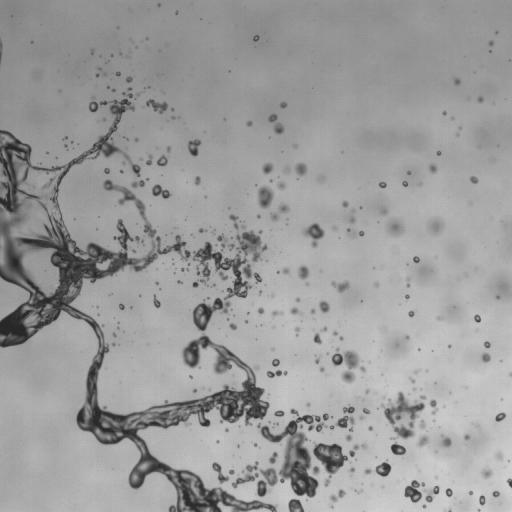droplet: (231, 408, 348, 511), (380, 391, 426, 456), (331, 348, 365, 383), (404, 480, 440, 502), (329, 405, 354, 431), (302, 223, 324, 247), (257, 186, 273, 208), (386, 218, 404, 236), (89, 97, 108, 112), (152, 184, 170, 198), (428, 218, 443, 234), (331, 280, 349, 292), (188, 139, 200, 156), (295, 163, 306, 176), (298, 265, 308, 279), (417, 435, 428, 447), (481, 467, 492, 479), (156, 155, 167, 166), (262, 163, 273, 174), (319, 301, 329, 313), (442, 435, 451, 447), (313, 332, 321, 344), (348, 210, 355, 223), (495, 412, 505, 421), (269, 452, 277, 463), (279, 203, 288, 212), (482, 352, 490, 362), (153, 296, 160, 307), (429, 164, 437, 173), (495, 451, 503, 460), (290, 307, 300, 314), (274, 410, 284, 417), (146, 155, 152, 165), (479, 495, 485, 505), (470, 176, 478, 183), (277, 182, 285, 189), (445, 488, 452, 496), (194, 176, 200, 185), (419, 420, 425, 429), (271, 213, 278, 220), (272, 359, 279, 366), (378, 182, 386, 188), (474, 314, 480, 322), (282, 267, 289, 273), (258, 307, 264, 314), (408, 310, 414, 317), (229, 323, 236, 329), (484, 341, 490, 348), (346, 434, 352, 441), (492, 491, 499, 497), (295, 327, 300, 335), (362, 408, 370, 413), (253, 35, 259, 41), (126, 76, 132, 82), (454, 78, 460, 84), (280, 102, 286, 108), (342, 201, 348, 207), (381, 208, 387, 214), (413, 256, 419, 262), (246, 121, 252, 126), (358, 231, 364, 236), (321, 327, 327, 332), (349, 467, 354, 473), (478, 97, 483, 102), (104, 168, 109, 173), (402, 181, 407, 186), (347, 228, 352, 233), (119, 304, 124, 309), (464, 434, 469, 439), (229, 469, 234, 474), (199, 228, 205, 232), (315, 357, 319, 363), (166, 146, 170, 151), (284, 167, 288, 172), (405, 294, 409, 299), (310, 309, 315, 313), (404, 335, 409, 339), (320, 367, 324, 372), (410, 378, 414, 383), (181, 268, 187, 271), (489, 41, 493, 45), (116, 72, 120, 76), (436, 151, 440, 155), (319, 177, 323, 181), (437, 316, 441, 320), (365, 389, 369, 393), (368, 426, 372, 430), (254, 443, 258, 447), (422, 504, 426, 508), (375, 282, 378, 287), (178, 280, 182, 283), (112, 333, 116, 336), (333, 332, 337, 335), (339, 336, 342, 340), (360, 416, 364, 419), (443, 111, 446, 114), (294, 144, 297, 147), (407, 171, 410, 174), (333, 226, 336, 229), (496, 295, 499, 298), (296, 298, 299, 301), (414, 370, 417, 373), (189, 375, 192, 378), (193, 389, 196, 392), (307, 403, 310, 406), (274, 422, 277, 425), (472, 422, 475, 425), (469, 491, 472, 494), (509, 372, 511, 376), (96, 74, 99, 76), (112, 89, 115, 91), (63, 137, 66, 139), (135, 138, 137, 141), (257, 215, 260, 217), (212, 284, 215, 286), (112, 343, 115, 345), (330, 505, 333, 507), (91, 51, 93, 53), (172, 117, 174, 119), (103, 118, 105, 120), (120, 170, 122, 172), (212, 230, 214, 232), (353, 233, 355, 235), (132, 249, 134, 251), (259, 291, 261, 293), (271, 294, 273, 296), (448, 345, 450, 347), (413, 388, 415, 390), (226, 429, 228, 431)
ligament: (0, 87, 277, 511), (364, 460, 391, 476), (212, 462, 229, 483), (268, 114, 283, 134), (146, 99, 167, 113), (349, 443, 366, 457), (329, 489, 345, 502), (266, 369, 287, 377), (429, 399, 437, 414), (131, 180, 145, 188), (271, 310, 283, 316), (0, 39, 2, 59), (406, 277, 410, 287), (507, 478, 511, 487), (357, 489, 362, 493), (443, 509, 451, 511)
